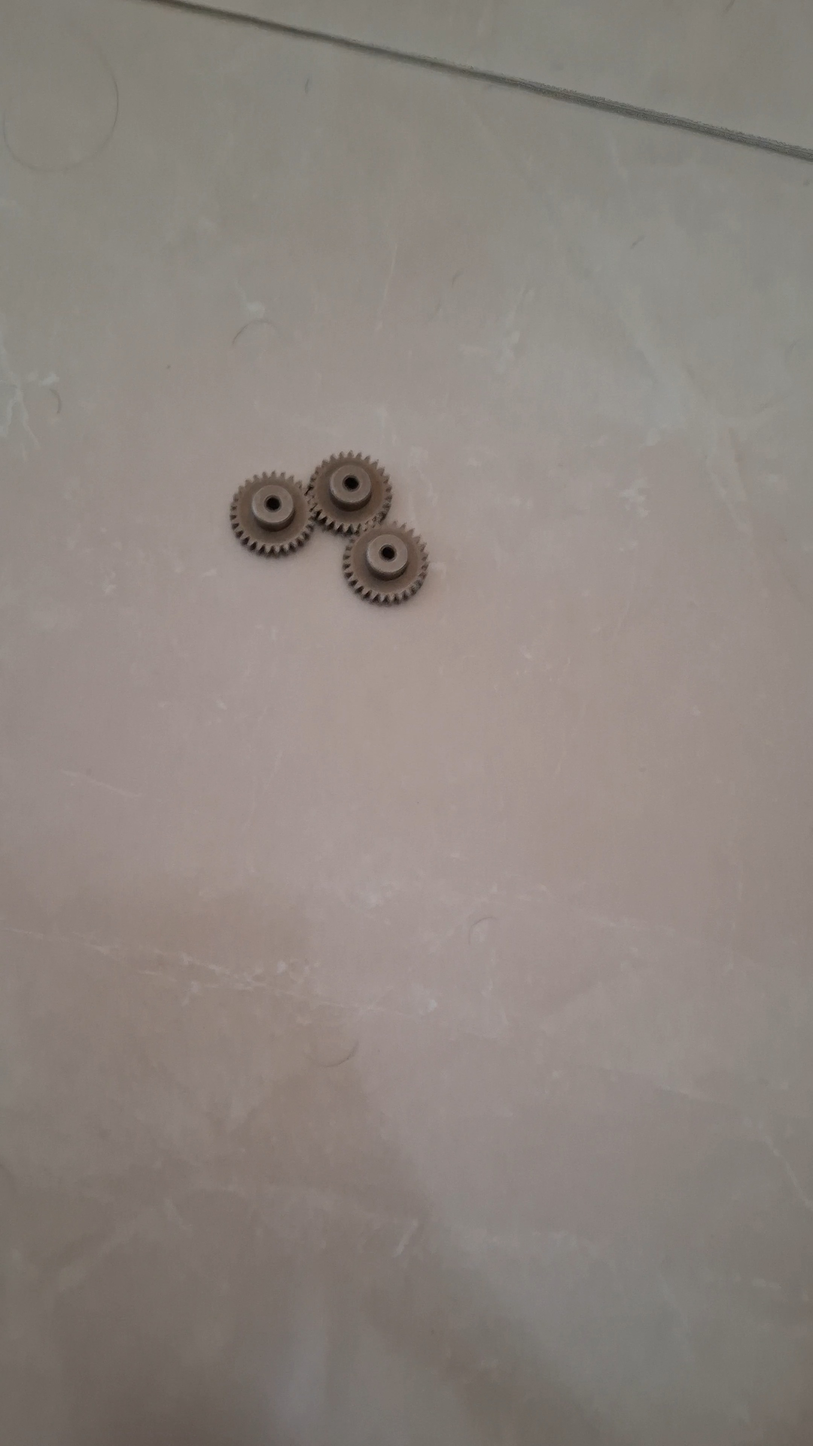spur gear: (230, 473, 315, 555), (343, 522, 428, 604), (309, 454, 391, 533)
